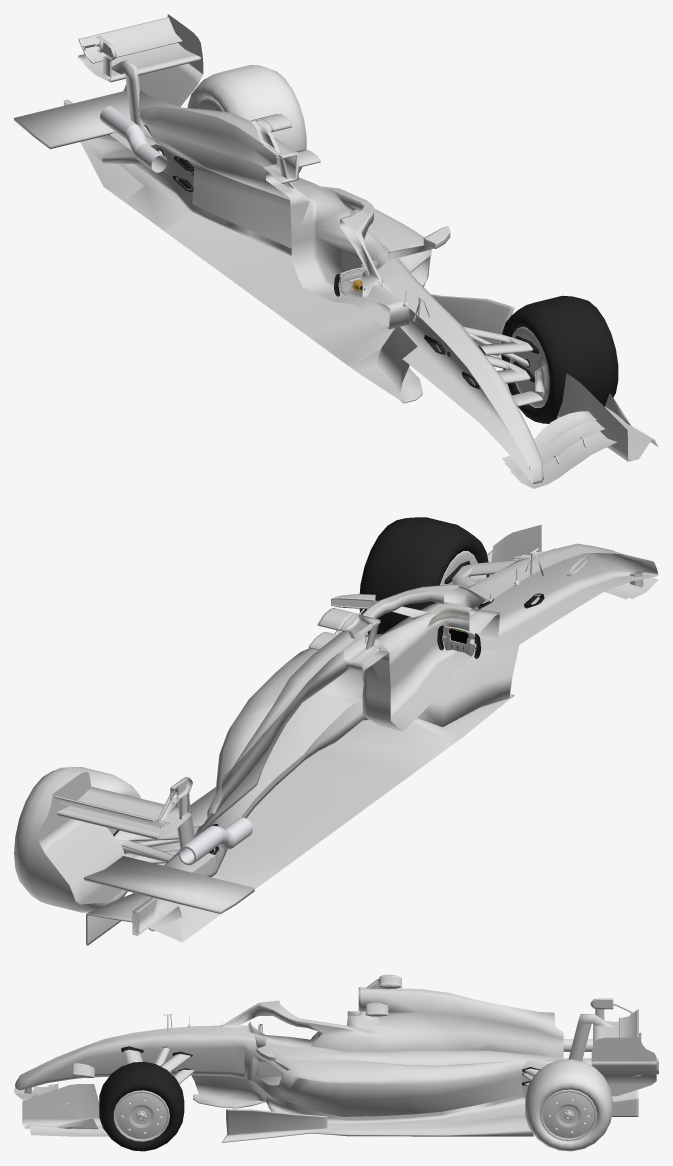
3 renders of one model, top to bottom at view 1: azimuth 30°, elevation 25°; view 2: azimuth 150°, elevation 25°; view 3: azimuth 270°, elevation 25°, orthographic. The views are drawn at different scales.
Parts seen in each view (by area): view 1: Main body, Floor, Front Tire, Rear Tire, Inside Seat, Rear Wing Bottom Holder, Front wing side plates, Rear Wing side plate, Rear wing DRS, Front Arms, Rear Wing main part, Front Wing Bottom (+7 smaller); view 2: Main body, Floor, Front Tire, Inside Seat, Rear Tire, Rear Wing side plate, Rear Wing Bottom Holder, Rear Wing main part, Exhaust, Front wing side plates, Top Intake Details, Front Arms (+3 smaller); view 3: Main body, Floor, Rear Tire, Front Tire, Front wing side plates, Rear Wing side plate, Front Wheelover, Rear Wheelover, Rear Wing Holder, Front Arms, Top Intake Details, Rear wing DRS (+4 smaller).
Boxes of the visible parts, x1=… form: Main body: x1=134, y1=90, x2=543, y2=483; Floor: x1=63, y1=99, x2=514, y2=403; Front Tire: x1=501, y1=295, x2=618, y2=423; Rear Tire: x1=187, y1=65, x2=306, y2=173; Inside Seat: x1=291, y1=236, x2=409, y2=329; Rear Wing Bottom Holder: x1=14, y1=90, x2=146, y2=149; Front wing side plates: x1=557, y1=373, x2=658, y2=461; Rear Wing side plate: x1=123, y1=14, x2=203, y2=135; Rear wing DRS: x1=80, y1=17, x2=182, y2=62; Front Arms: x1=424, y1=326, x2=539, y2=388; Rear Wing main part: x1=78, y1=43, x2=200, y2=82; Front Wing Bottom: x1=510, y1=431, x2=616, y2=488; Main body: x1=194, y1=543, x2=658, y2=864; Floor: x1=86, y1=630, x2=519, y2=945; Front Tire: x1=359, y1=517, x2=489, y2=634; Inside Seat: x1=362, y1=608, x2=499, y2=731; Rear Tire: x1=14, y1=767, x2=145, y2=912; Rear Wing side plate: x1=39, y1=771, x2=125, y2=904; Rear Wing Bottom Holder: x1=84, y1=856, x2=254, y2=913; Rear Wing main part: x1=57, y1=787, x2=191, y2=839; Exhaust: x1=178, y1=817, x2=252, y2=865; Front wing side plates: x1=487, y1=524, x2=541, y2=575; Top Intake Details: x1=308, y1=608, x2=373, y2=655; Front Arms: x1=444, y1=559, x2=544, y2=609; Main body: x1=15, y1=987, x2=563, y2=1116; Floor: x1=191, y1=1058, x2=658, y2=1142; Rear Tire: x1=525, y1=1059, x2=612, y2=1151; Front Tire: x1=99, y1=1061, x2=184, y2=1151; Front wing side plates: x1=22, y1=1084, x2=108, y2=1136; Rear Wing side plate: x1=591, y1=1037, x2=656, y2=1096; Front Wheelover: x1=113, y1=1090, x2=169, y2=1141; Rear Wheelover: x1=540, y1=1089, x2=596, y2=1140; Rear Wing Holder: x1=568, y1=1014, x2=613, y2=1061; Front Arms: x1=121, y1=1046, x2=194, y2=1083; Top Intake Details: x1=365, y1=974, x2=401, y2=1016; Rear wing DRS: x1=619, y1=1009, x2=638, y2=1037.
Size of the model in its own units: 1.37 by 1.17 by 5.21.
13 materials, 8 textured.
